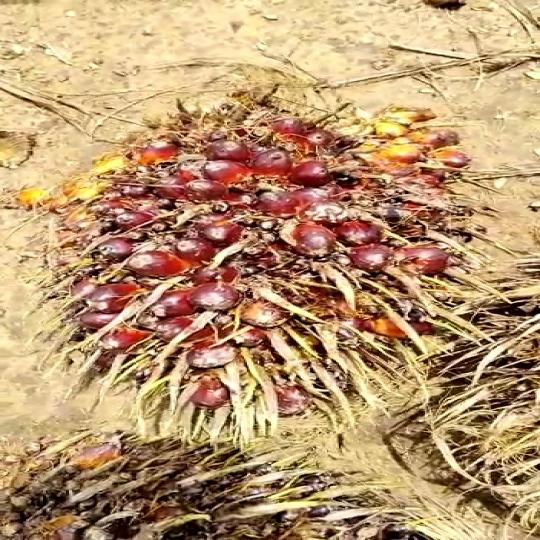masak: (38, 73, 524, 437)
